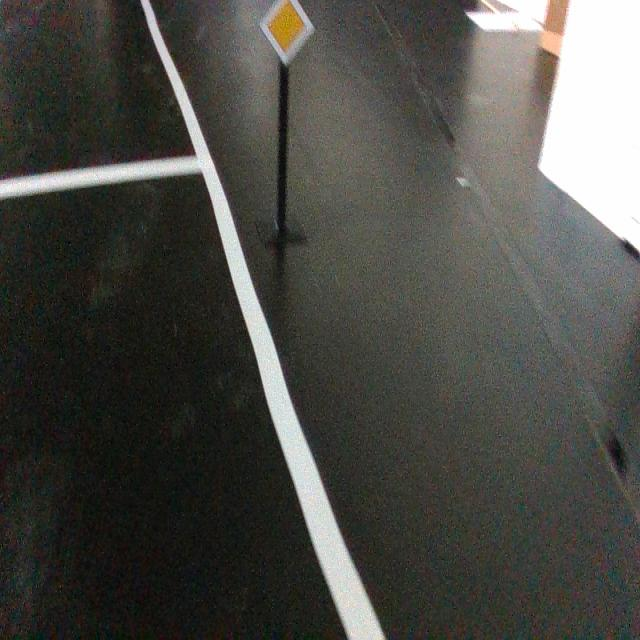priority-sign: (258, 0, 314, 67)
